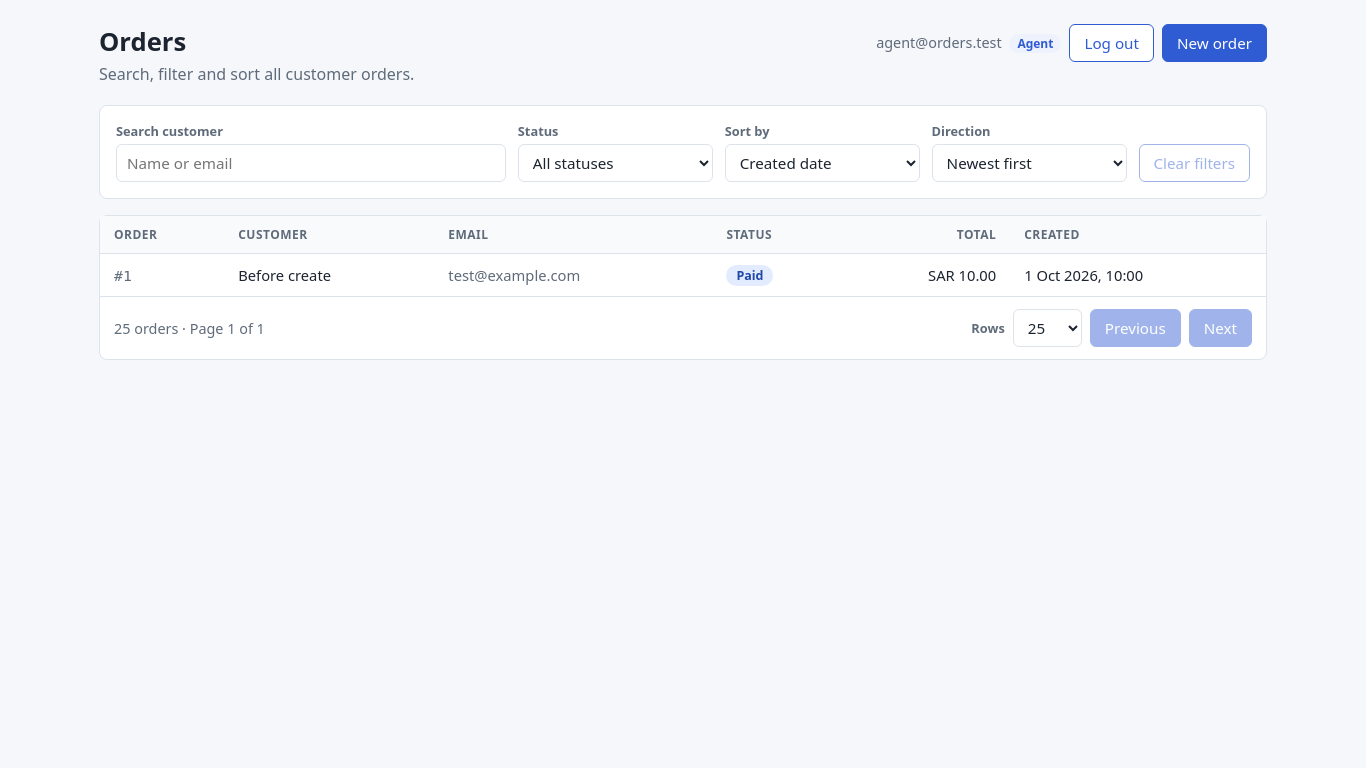
Scenario: OrdersConsole: create order › refreshes the list after a successful create, still applying only the latest response
The image size is (1366, 768).
Click the button "New order" at (1214, 43), box left=1162, top=24, right=1267, bottom=62
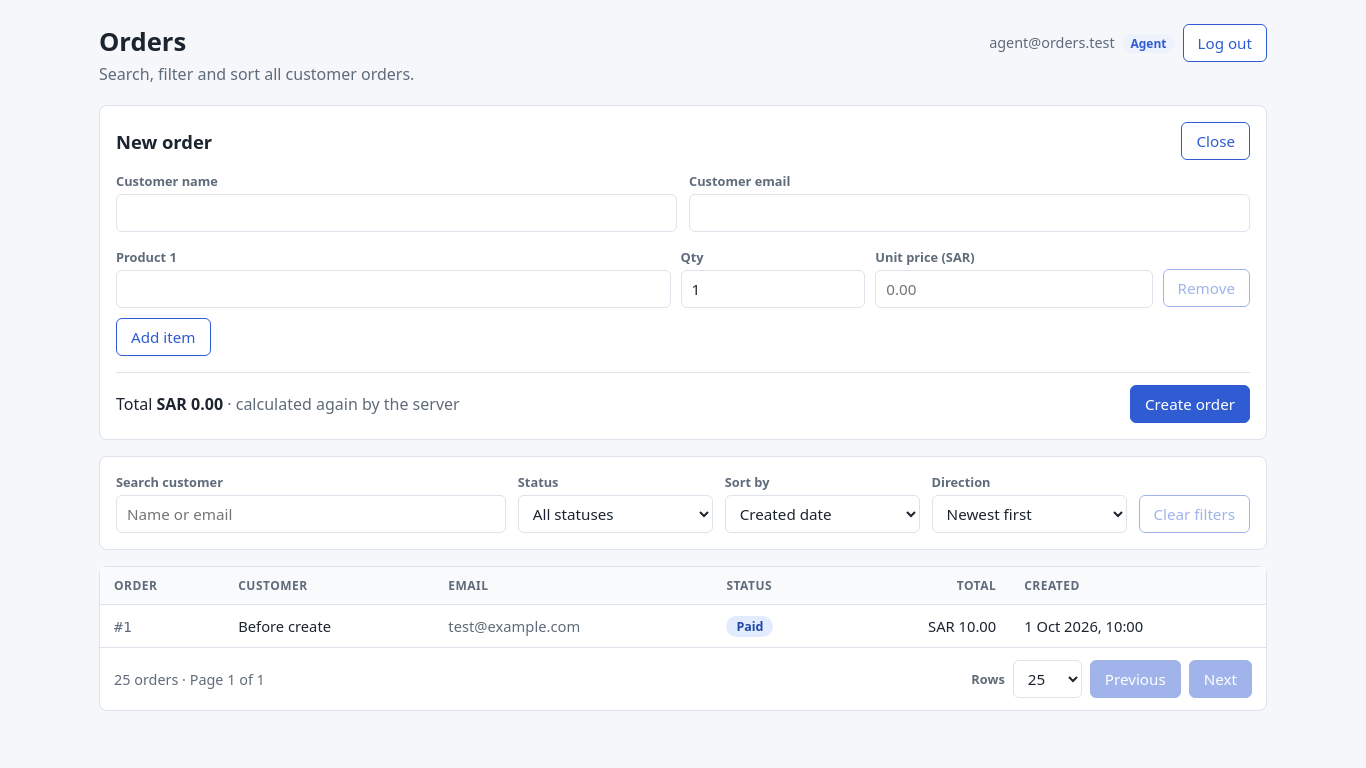
Type "New Customer" into the field labelled "Customer name" at (396, 213), box left=116, top=194, right=677, bottom=232
Type "new@example.com" into the field labelled "Customer email" at (970, 213), box left=689, top=194, right=1250, bottom=232
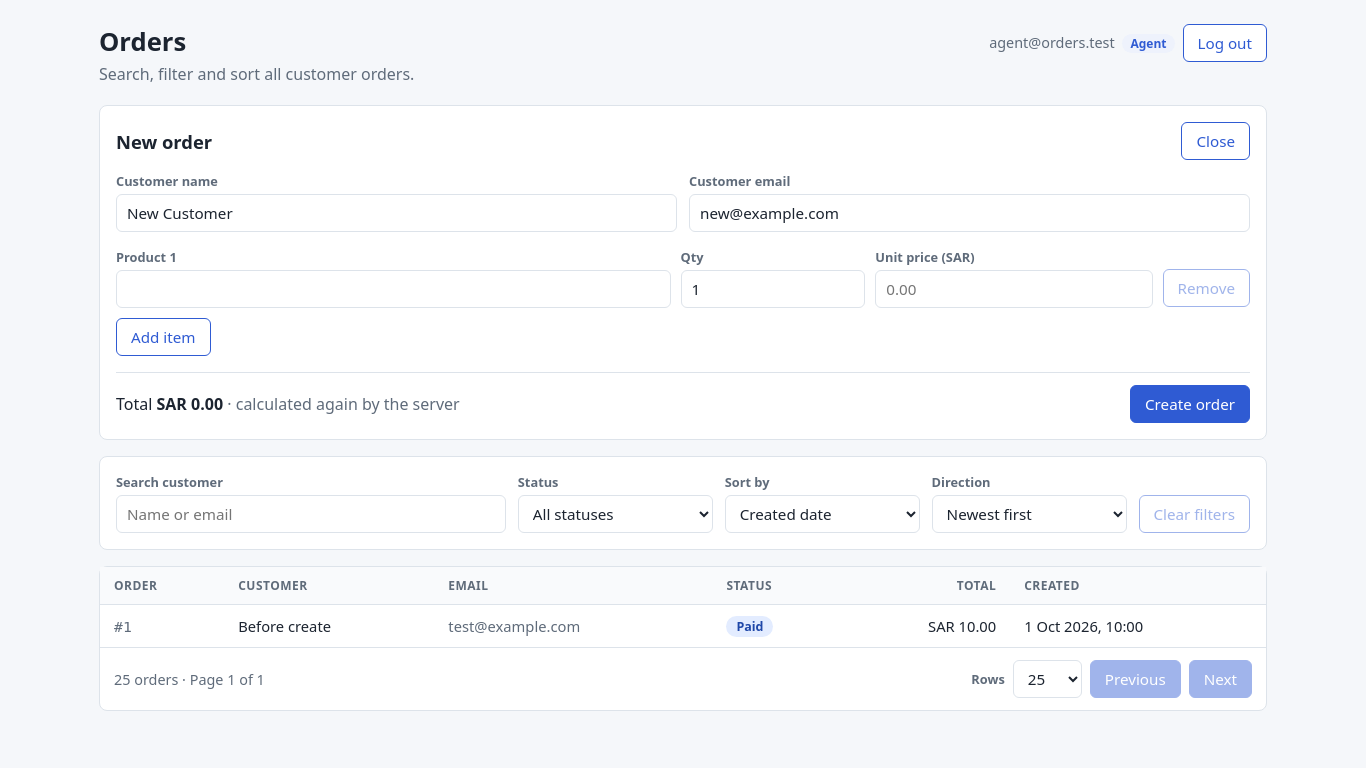
Type "Mouse" into the field labelled "Product 1" at (393, 289), box left=116, top=270, right=670, bottom=308
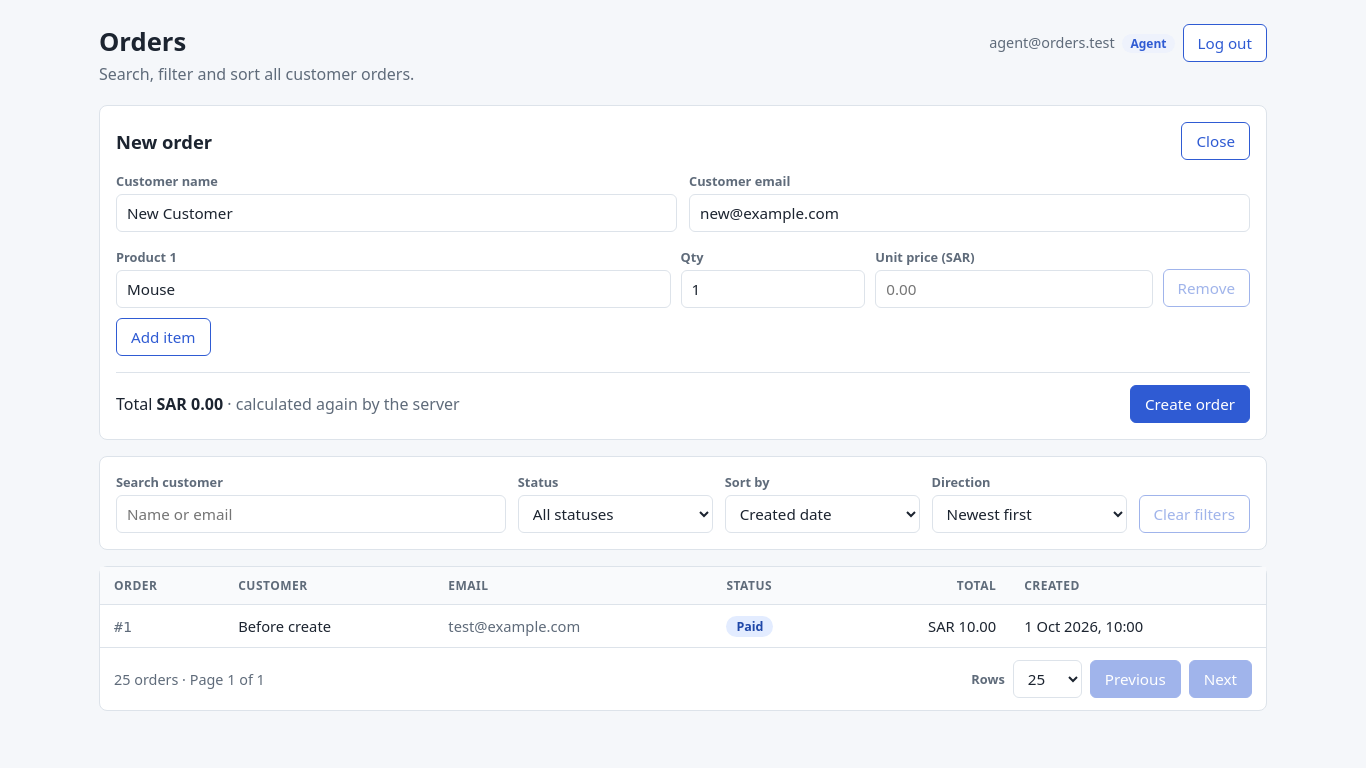
Type "24.99" into the field labelled "Unit price (SAR)" at (1014, 289), box left=875, top=270, right=1153, bottom=308
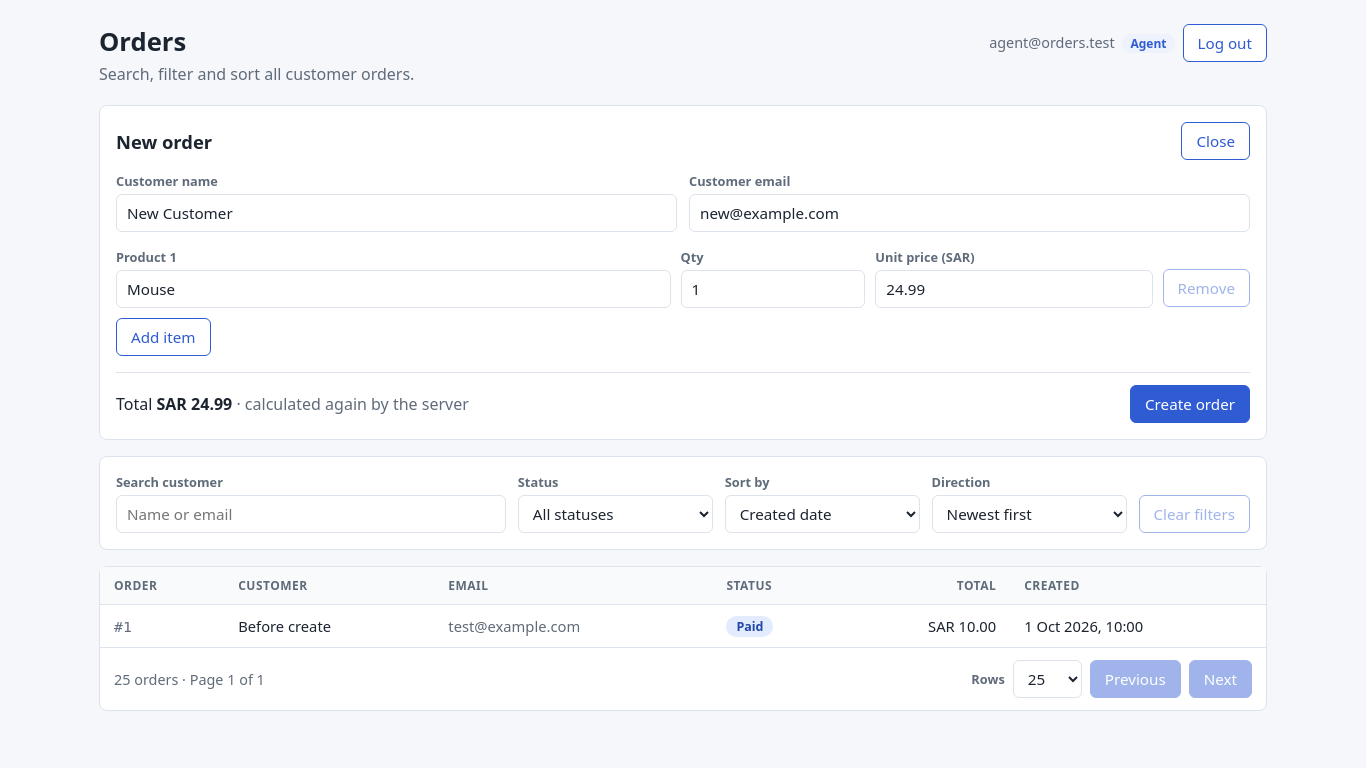
Click the button "Create order" at (1190, 404), box left=1130, top=385, right=1250, bottom=423
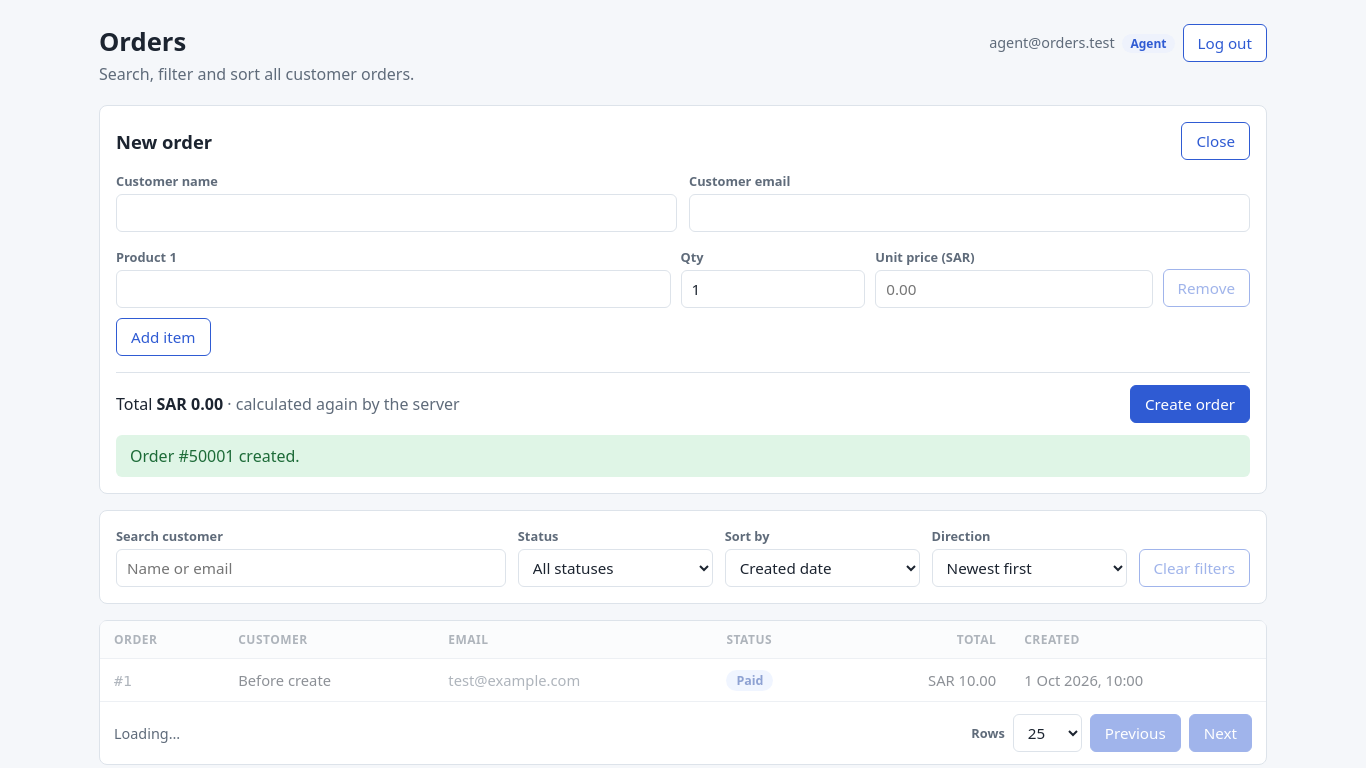
Result: the text "Order #50001 created." is shown at left=116, top=435, right=1250, bottom=477
// A status change while the refresh is in flight: the refresh is now stale.
Select "Paid" in the dropdown labelled "Status" at (615, 568), box left=518, top=549, right=713, bottom=587
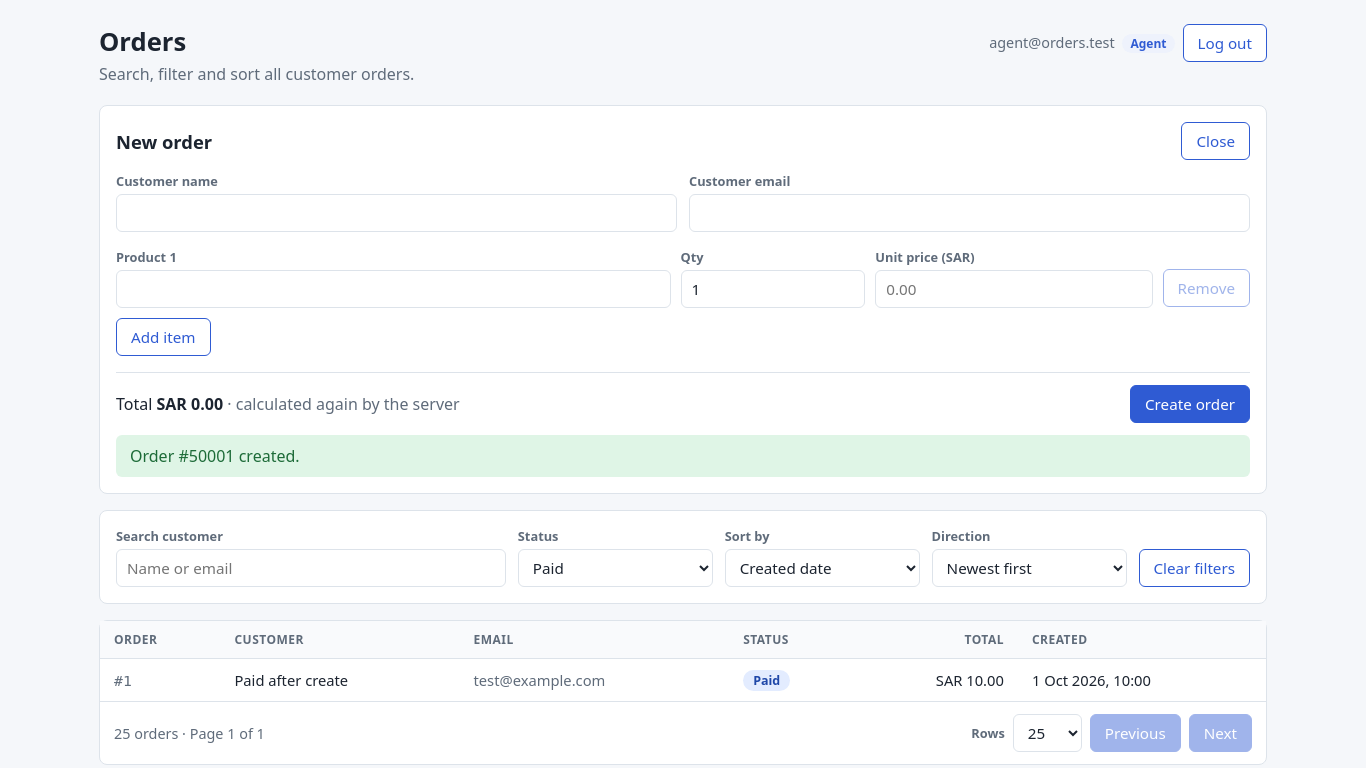
Result: the text "Paid after create" is shown at left=220, top=659, right=460, bottom=702
